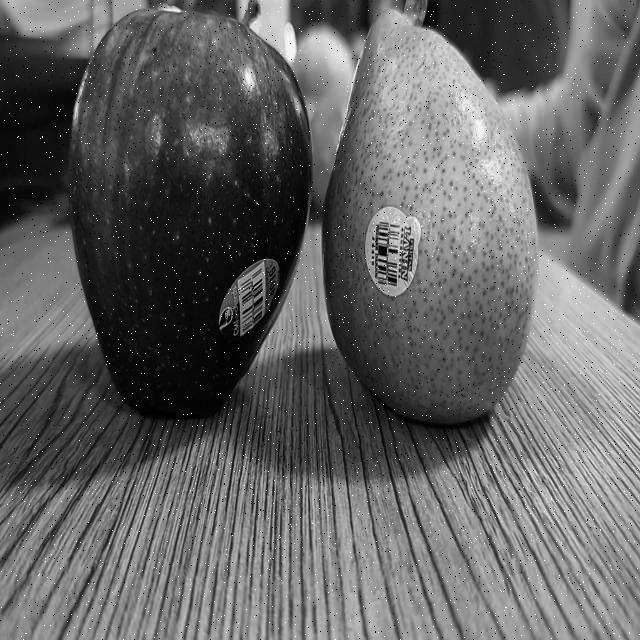Apel Merah: (74, 4, 298, 422)
Pir: (340, 13, 528, 412)
